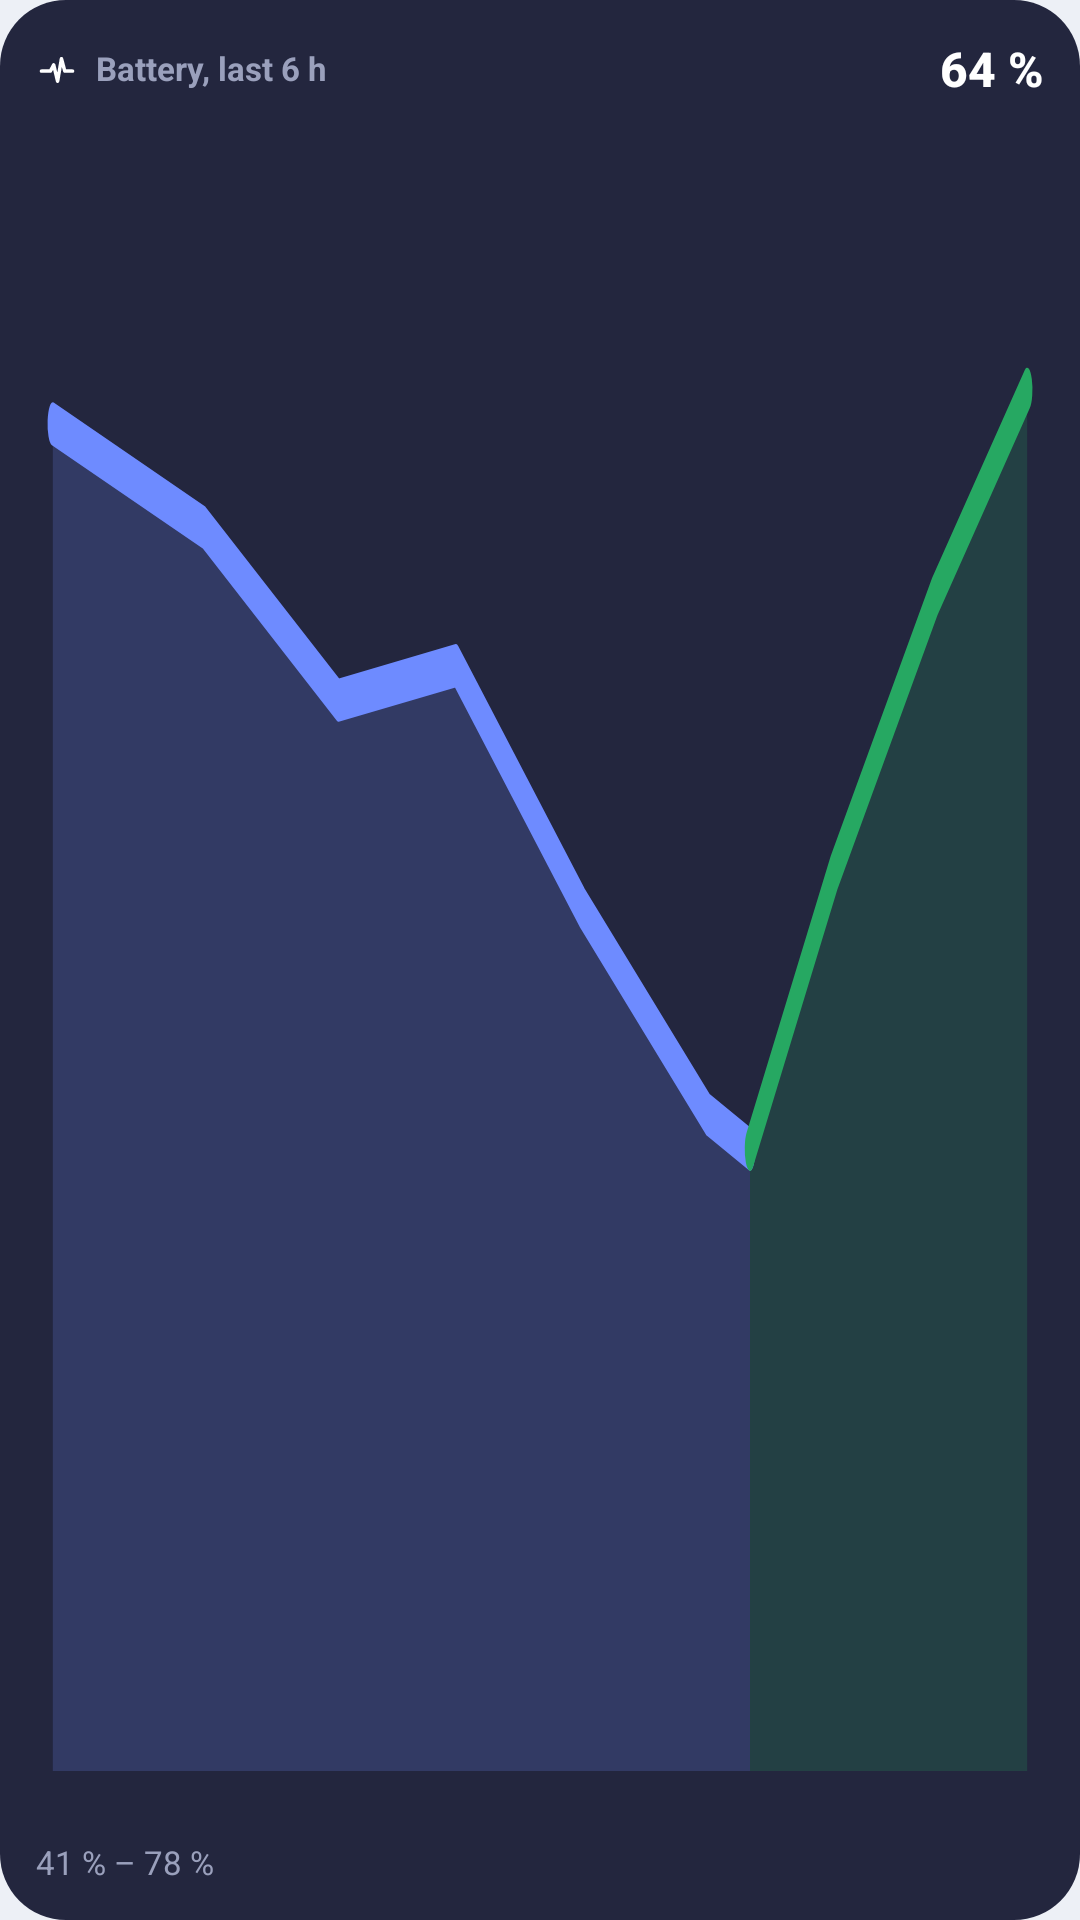

Screen size 1080px×1920px. Icon name, then its box in pixels as box(x1, y1, x2, y2):
pulse: box(39, 57, 75, 83)
